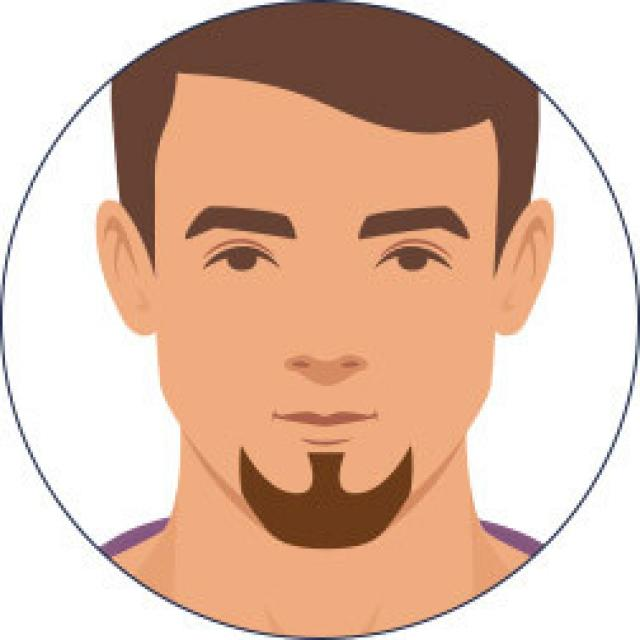beard: (243, 450, 414, 551)
hair: (114, 3, 538, 262)
